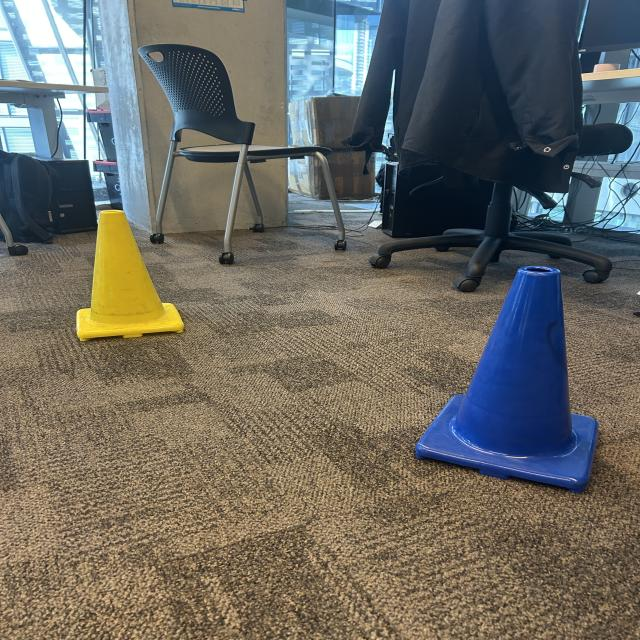blue_cone: (416, 266, 597, 490)
yellow_cone: (77, 210, 184, 339)
